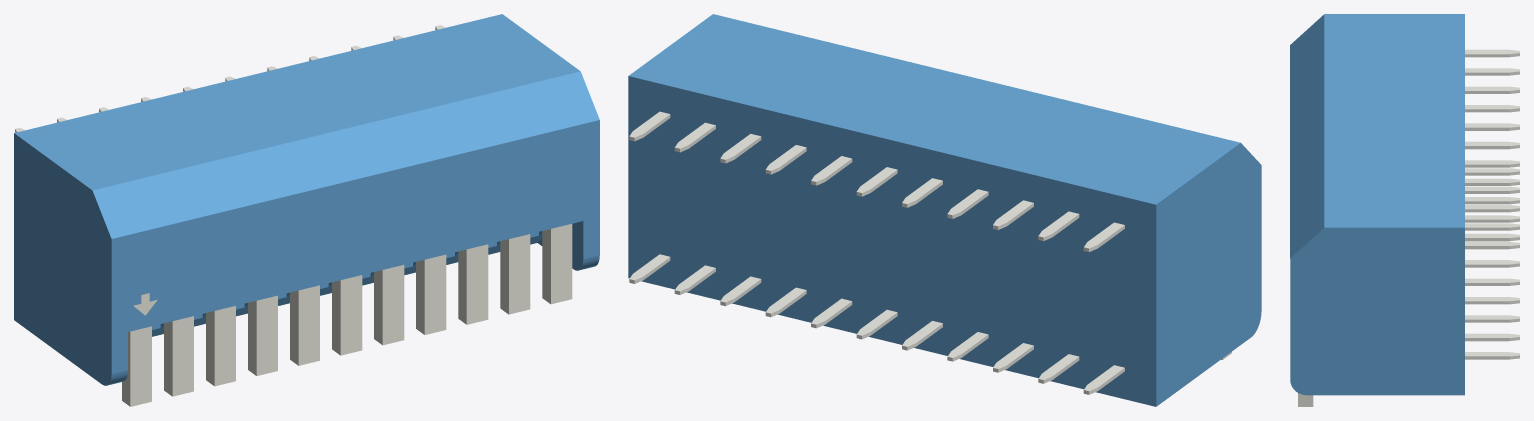
Rendered from SW_DIP_SPSTx11_Piano_10.8x29.5mm_W7.62mm_P2.54mm.glb.
3 views of the same model, side by side, from view 1: azimuth 30°, elevation 25°; view 2: azimuth 150°, elevation 25°; view 3: azimuth 270°, elevation 25° (orthographic). The views are drawn at different scales.
Parts seen in each view (by area): view 1: Shape_IndexedFaceSet.001, Shape_IndexedFaceSet.005, Shape_IndexedFaceSet.003, Shape_IndexedFaceSet.008, Shape_IndexedFaceSet.125, Shape_IndexedFaceSet.155, Shape_IndexedFaceSet.135, Shape_IndexedFaceSet.145, Shape_IndexedFaceSet.108, Shape_IndexedFaceSet.118, Shape_IndexedFaceSet.148, Shape_IndexedFaceSet.105 (+15 smaller); view 2: Shape_IndexedFaceSet.006, Shape_IndexedFaceSet.005, Shape_IndexedFaceSet.008; view 3: Shape_IndexedFaceSet.005, Shape_IndexedFaceSet, Shape_IndexedFaceSet.003, Shape_IndexedFaceSet.087, Shape_IndexedFaceSet.029, Shape_IndexedFaceSet.035, Shape_IndexedFaceSet.041, Shape_IndexedFaceSet.045, Shape_IndexedFaceSet.049, Shape_IndexedFaceSet.052, Shape_IndexedFaceSet.057, Shape_IndexedFaceSet.058 (+13 smaller).
Part boxes in pixels (x1,y1,x2,y2): Shape_IndexedFaceSet.001: (111,120,599,373); Shape_IndexedFaceSet.005: (14,14,579,190); Shape_IndexedFaceSet.003: (92,71,599,238); Shape_IndexedFaceSet.008: (14,133,111,385); Shape_IndexedFaceSet.125: (466,244,488,324); Shape_IndexedFaceSet.155: (340,275,362,355); Shape_IndexedFaceSet.135: (424,254,446,334); Shape_IndexedFaceSet.145: (382,265,404,345); Shape_IndexedFaceSet.108: (130,326,151,406); Shape_IndexedFaceSet.118: (172,316,193,396); Shape_IndexedFaceSet.148: (298,285,319,365); Shape_IndexedFaceSet.105: (551,224,572,304); Shape_IndexedFaceSet.006: (628,76,1156,406); Shape_IndexedFaceSet.005: (629,14,1240,204); Shape_IndexedFaceSet.008: (1156,143,1261,406); Shape_IndexedFaceSet.005: (1324,14,1464,227); Shape_IndexedFaceSet: (1290,227,1464,395); Shape_IndexedFaceSet.003: (1290,14,1324,258); Shape_IndexedFaceSet.087: (1465,49,1519,54); Shape_IndexedFaceSet.029: (1465,86,1519,90); Shape_IndexedFaceSet.035: (1465,223,1519,227); Shape_IndexedFaceSet.041: (1465,205,1519,209); Shape_IndexedFaceSet.045: (1465,241,1519,245); Shape_IndexedFaceSet.049: (1465,278,1519,282); Shape_IndexedFaceSet.052: (1465,260,1519,264); Shape_IndexedFaceSet.057: (1465,297,1519,301); Shape_IndexedFaceSet.058: (1465,178,1519,182).
Size of the model in its own units: 11.61 by 4.8 by 5.28.
